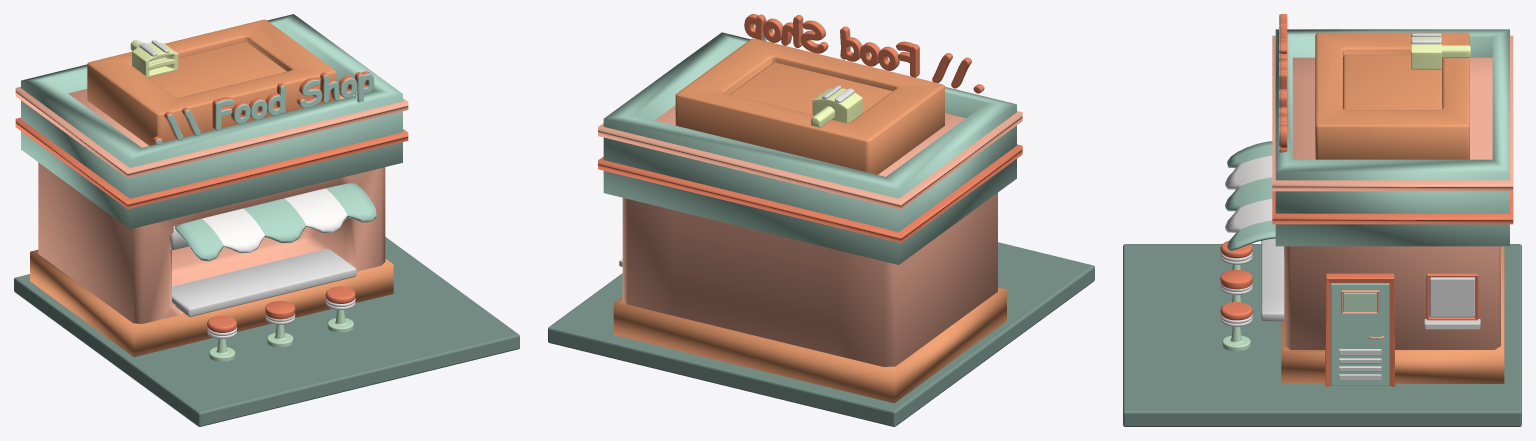
File: Shop1.fbx
3 views of the same model, side by side, from view 1: azimuth 30°, elevation 25°; view 2: azimuth 150°, elevation 25°; view 3: azimuth 270°, elevation 25° (orthographic). The views are drawn at different scales.
Parts seen in each view (by area): view 1: Plane.008, Cube.001, Cube, Cube.002, Cube.005, Plane.009, Cube.003, Cube.006, Cube.007, Text, Text.002, Plane (+1 smaller); view 2: Cube, Cube.001, Cube.002, Plane.008, Cube.005, Cube.007, Cube.006, Text.002, Plane; view 3: Plane.008, Cube.001, Cube, Cube.002, Cube.005, Plane.003, Plane.009, Cube.006, Cube.007, Plane.004, Cube.003, Plane.010 (+10 smaller).
Boxes of the visible parts, bbox=[...] form: Plane.008: bbox=[14, 237, 519, 426]; Cube.001: bbox=[21, 14, 402, 229]; Cube: bbox=[38, 89, 385, 323]; Cube.002: bbox=[87, 19, 336, 145]; Cube.005: bbox=[30, 250, 393, 357]; Plane.009: bbox=[175, 182, 376, 261]; Cube.003: bbox=[172, 248, 356, 316]; Cube.006: bbox=[15, 86, 408, 178]; Cube.007: bbox=[15, 117, 408, 208]; Text: bbox=[155, 74, 374, 144]; Text.002: bbox=[152, 71, 373, 144]; Plane: bbox=[132, 42, 178, 77]; Cube: bbox=[622, 105, 997, 366]; Cube.001: bbox=[603, 32, 1016, 264]; Cube.002: bbox=[675, 38, 944, 174]; Plane.008: bbox=[548, 242, 1094, 426]; Cube.005: bbox=[613, 287, 1006, 403]; Cube.007: bbox=[598, 144, 1022, 243]; Cube.006: bbox=[598, 111, 1022, 209]; Text.002: bbox=[744, 14, 983, 93]; Plane: bbox=[812, 88, 862, 122]; Plane.008: bbox=[1123, 244, 1521, 426]; Cube.001: bbox=[1275, 29, 1509, 246]; Cube: bbox=[1284, 57, 1500, 349]; Cube.002: bbox=[1315, 32, 1469, 159]; Cube.005: bbox=[1281, 246, 1504, 383]; Plane.003: bbox=[1330, 283, 1389, 385]; Plane.009: bbox=[1225, 141, 1275, 251]; Cube.006: bbox=[1272, 35, 1513, 191]; Cube.007: bbox=[1272, 191, 1513, 224]; Plane.004: bbox=[1325, 273, 1395, 386]; Cube.003: bbox=[1261, 238, 1284, 321]; Plane.010: bbox=[1430, 277, 1475, 317].
Size of the model in its own units: 370 by 279 by 368.
